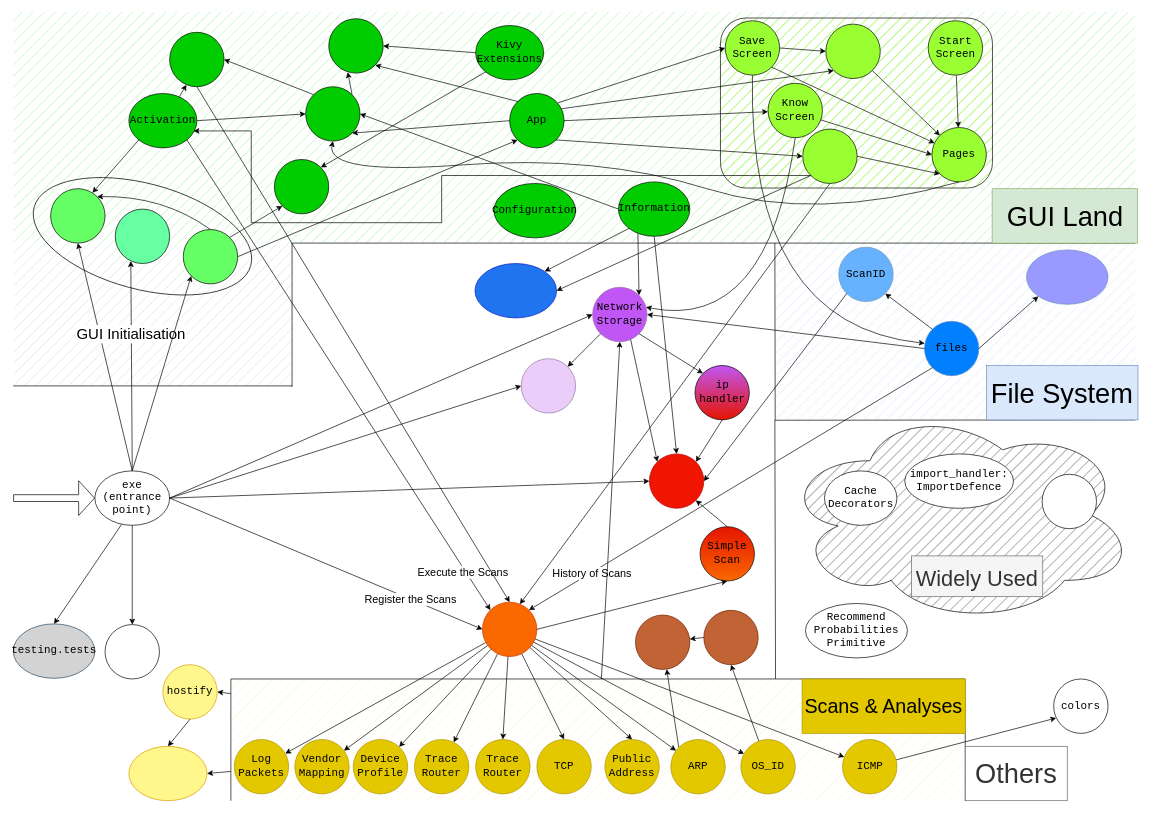
Some shapes in this 1150 by 813 pixel diagram are drawn without their labels. The centre of each missing label's shape, as x and y in pixels:
@threadify: the point at 167,773
AppState: the point at 332,113
Command Line Style: the point at 131,651
db (SQLite Database): the point at 515,290
Diagrams: the point at 301,186
dialogs: the point at 77,215
files cryptography: the point at 1067,276
G (Graph): the point at 548,385
global stuff: the point at 1068,501
Hover: the point at 355,45
ipconfig: the point at 676,480
Kivy Fonts: the point at 142,236
Packet Sniffer: the point at 730,637
register: the point at 509,629
Scan Classes: the point at 196,59
Scan Screen: the point at 829,155
Sniffer: the point at 662,641
Start App: the point at 210,256
View Screen: the point at 852,51
